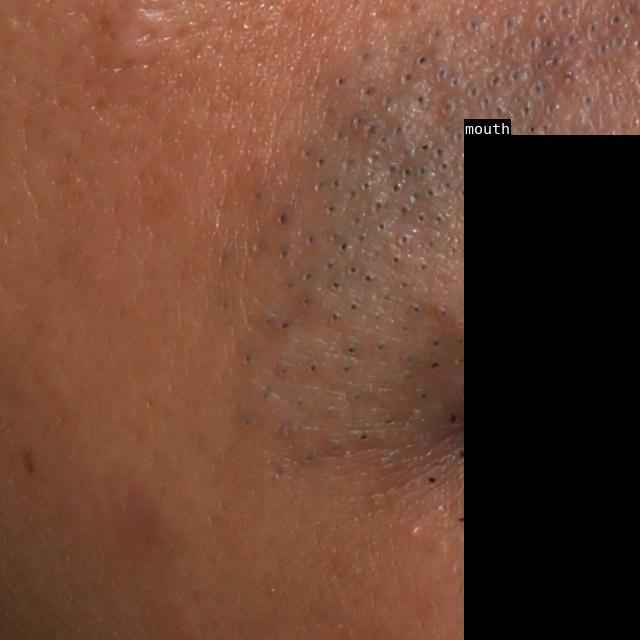comedo: (408, 521, 426, 538)
hypertrophic_scar: (99, 3, 185, 69)
nevus: (18, 445, 38, 477)
